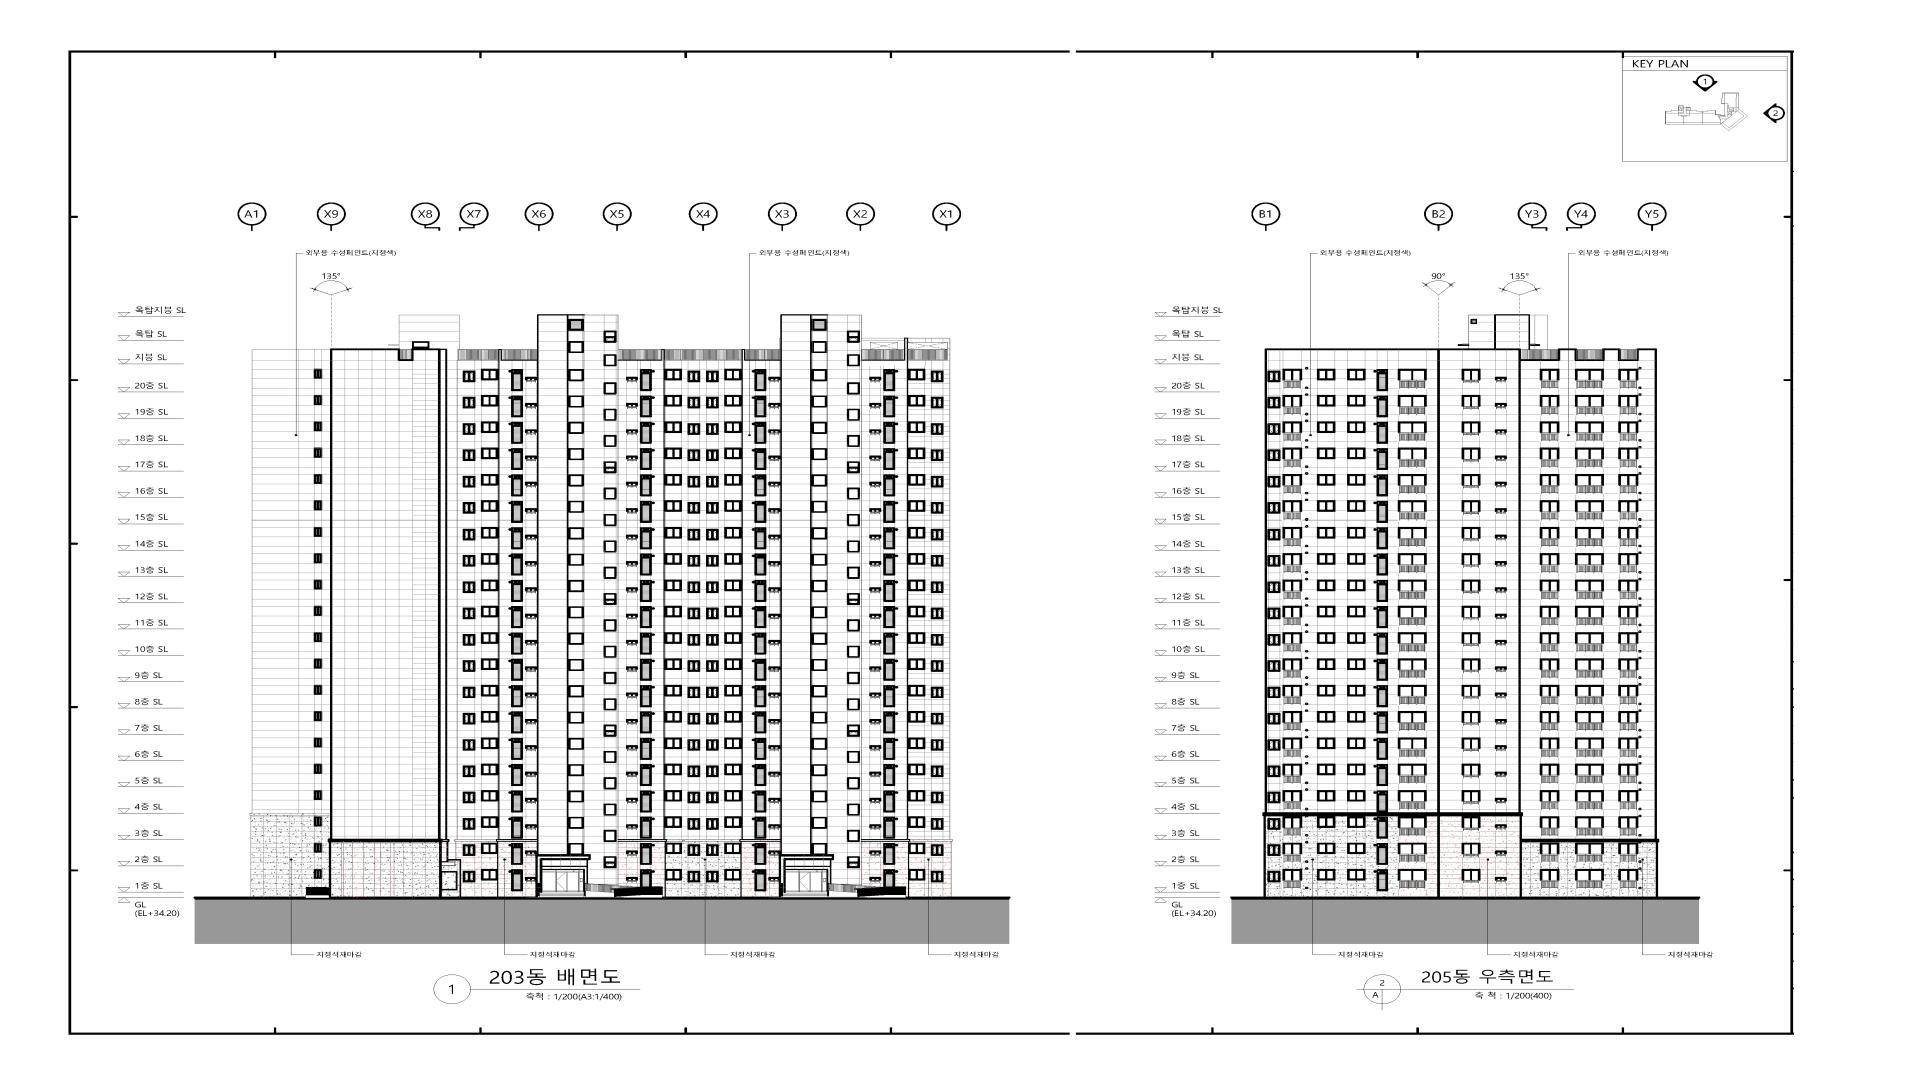door: (555, 870, 567, 892), (567, 870, 579, 892), (810, 870, 822, 892), (799, 870, 810, 892)
wall: (195, 314, 1009, 900), (1231, 314, 1699, 900)
window: (862, 340, 904, 360), (908, 342, 948, 360), (1398, 527, 1427, 548), (1398, 737, 1427, 758), (1398, 763, 1427, 784), (1575, 421, 1604, 442), (1575, 447, 1604, 468), (1575, 658, 1604, 679), (1398, 579, 1427, 600), (1398, 632, 1427, 653), (1398, 658, 1427, 679), (1575, 553, 1604, 574), (1397, 422, 1427, 442), (1574, 395, 1604, 415), (1574, 474, 1604, 494), (1398, 395, 1427, 415), (1398, 474, 1427, 494), (1398, 500, 1427, 520), (1398, 553, 1427, 573), (1398, 711, 1427, 731), (1398, 790, 1427, 810), (1398, 816, 1427, 836), (1397, 843, 1426, 863), (1398, 869, 1427, 889), (1575, 500, 1604, 520), (1575, 606, 1604, 626), (1575, 632, 1604, 652), (1575, 685, 1604, 705), (1575, 711, 1604, 731), (1575, 738, 1604, 758), (1575, 764, 1604, 784), (1575, 790, 1604, 810), (1575, 816, 1604, 836), (1575, 843, 1604, 863), (1575, 869, 1604, 889), (1398, 369, 1427, 389), (1575, 369, 1604, 389), (1398, 448, 1427, 468), (1398, 606, 1427, 626), (1398, 685, 1427, 705), (1575, 527, 1604, 547), (1575, 580, 1604, 600), (1282, 421, 1302, 442), (1282, 447, 1302, 468), (1282, 632, 1302, 653), (1618, 737, 1638, 758), (1618, 764, 1639, 784), (1618, 869, 1639, 889), (1618, 790, 1639, 810), (1618, 816, 1639, 836), (1539, 816, 1560, 836), (1282, 527, 1302, 547), (1282, 580, 1302, 600), (1282, 606, 1302, 626), (1282, 685, 1302, 705), (1282, 711, 1302, 731), (1282, 816, 1302, 836), (1282, 843, 1302, 863), (1618, 395, 1638, 415), (1539, 448, 1559, 468), (1540, 474, 1560, 494), (1618, 474, 1638, 494), (1540, 659, 1560, 679), (1618, 685, 1638, 705), (1540, 737, 1560, 757), (1618, 711, 1638, 731), (1282, 369, 1302, 389), (1618, 369, 1638, 389), (1282, 474, 1302, 494), (1282, 553, 1302, 573), (1282, 790, 1302, 810), (1618, 448, 1638, 468), (1618, 501, 1638, 521), (1618, 527, 1638, 547), (1618, 553, 1638, 573), (1618, 580, 1638, 600), (1618, 632, 1638, 652), (1618, 658, 1638, 678), (1540, 843, 1560, 863), (1540, 869, 1560, 889), (1618, 843, 1638, 863), (1283, 500, 1302, 521), (1283, 658, 1302, 679), (1540, 421, 1559, 442), (1540, 579, 1559, 600), (1540, 605, 1559, 626), (1619, 421, 1638, 442), (1283, 395, 1302, 415), (1283, 738, 1302, 758), (1283, 764, 1302, 784), (1283, 869, 1302, 889), (1540, 395, 1559, 415), (1540, 500, 1559, 520), (1540, 553, 1559, 573), (1619, 606, 1638, 626), (1540, 632, 1559, 652), (1540, 711, 1559, 731), (1540, 764, 1559, 784), (1540, 369, 1559, 389), (1540, 527, 1559, 547), (1540, 685, 1559, 705), (1540, 790, 1559, 810), (542, 870, 556, 892), (785, 870, 799, 892), (1461, 500, 1481, 515), (1461, 553, 1481, 568), (1462, 421, 1481, 436), (1461, 447, 1480, 462), (1462, 474, 1481, 489), (1462, 632, 1481, 647), (1462, 658, 1481, 673), (1462, 395, 1481, 410), (1462, 605, 1481, 620), (1462, 685, 1481, 700), (1461, 815, 1480, 830), (1462, 869, 1481, 884), (1461, 711, 1481, 725), (1461, 369, 1481, 383), (640, 474, 652, 497), (883, 632, 895, 655), (883, 658, 895, 681), (883, 790, 895, 813), (511, 395, 523, 418), (511, 632, 523, 655), (511, 816, 523, 839), (755, 816, 767, 839), (754, 790, 766, 813), (640, 790, 652, 813), (640, 685, 652, 708), (640, 658, 652, 681), (754, 553, 766, 576), (640, 553, 652, 576), (755, 527, 767, 550), (1461, 527, 1480, 541), (1462, 580, 1481, 594), (1461, 738, 1480, 752), (1461, 764, 1480, 778), (1461, 790, 1480, 804), (1461, 843, 1480, 857), (511, 369, 523, 391), (755, 501, 767, 523), (640, 501, 652, 523), (755, 474, 767, 496), (754, 448, 766, 470), (640, 448, 652, 470), (640, 422, 652, 444), (754, 422, 766, 444), (640, 396, 652, 418), (883, 422, 895, 444), (883, 448, 895, 470), (883, 474, 895, 496), (883, 501, 895, 523), (883, 527, 895, 549), (883, 553, 895, 575), (883, 580, 895, 602), (883, 606, 895, 628), (883, 685, 895, 707), (883, 711, 895, 733), (883, 738, 895, 760), (883, 764, 895, 786), (883, 817, 895, 839), (883, 843, 895, 865), (511, 422, 523, 444), (511, 448, 523, 470), (511, 474, 523, 496), (511, 501, 523, 523), (511, 527, 523, 549), (511, 553, 523, 575), (511, 580, 523, 602), (511, 606, 523, 628), (511, 659, 523, 681), (511, 685, 523, 707), (511, 711, 523, 733), (511, 738, 523, 760), (511, 764, 523, 786), (511, 791, 523, 813), (511, 843, 523, 865), (511, 869, 523, 891), (755, 869, 767, 891), (755, 843, 767, 865), (640, 843, 652, 865), (640, 817, 652, 839), (640, 764, 652, 786), (755, 764, 767, 786), (754, 738, 766, 760), (640, 738, 652, 760), (640, 711, 652, 733), (754, 711, 766, 733), (754, 685, 766, 707), (754, 659, 766, 681), (640, 632, 652, 654), (640, 606, 652, 628), (755, 633, 767, 655), (754, 606, 766, 628), (755, 580, 767, 602), (640, 580, 652, 602), (640, 527, 652, 549), (640, 369, 652, 391), (883, 369, 895, 391), (1376, 843, 1388, 865), (1376, 369, 1388, 391), (1377, 396, 1389, 418), (1376, 422, 1388, 444), (1376, 448, 1388, 470), (1376, 475, 1388, 497), (1376, 501, 1388, 523), (1376, 554, 1388, 576), (1376, 580, 1388, 602), (1376, 606, 1388, 628), (1376, 633, 1388, 655), (1376, 659, 1388, 681), (1376, 711, 1388, 733), (754, 396, 766, 417), (883, 396, 895, 417), (755, 369, 766, 391), (1377, 764, 1388, 786), (1377, 791, 1388, 813), (1377, 817, 1388, 839), (1377, 869, 1388, 891), (1377, 527, 1388, 549), (1377, 685, 1388, 707), (1377, 738, 1388, 760), (481, 421, 500, 433), (480, 500, 499, 512), (481, 553, 500, 565), (663, 711, 682, 723), (663, 816, 682, 828), (907, 816, 926, 828), (907, 711, 926, 723), (907, 605, 926, 617), (907, 553, 926, 565), (907, 527, 926, 539), (907, 474, 926, 486), (724, 395, 743, 407), (724, 421, 743, 433), (724, 447, 743, 459), (724, 474, 743, 486), (724, 500, 743, 512), (724, 553, 743, 565), (724, 632, 743, 644), (724, 711, 743, 723), (724, 737, 743, 749), (724, 764, 743, 776), (724, 790, 743, 802), (663, 500, 682, 512), (663, 553, 682, 565), (663, 632, 682, 644), (663, 658, 682, 670), (1317, 395, 1336, 407), (1347, 421, 1366, 433), (1317, 474, 1336, 486), (1317, 500, 1336, 512), (1317, 527, 1336, 539), (1347, 527, 1366, 539), (1317, 553, 1336, 565), (1317, 580, 1336, 592), (1317, 606, 1336, 618), (1347, 737, 1366, 749), (1317, 737, 1336, 749), (1317, 816, 1336, 828), (1347, 816, 1366, 828), (1347, 395, 1366, 407), (1347, 474, 1366, 486), (1347, 500, 1366, 512), (1317, 632, 1336, 644), (1347, 632, 1366, 644), (1347, 658, 1366, 670), (1347, 685, 1366, 697), (1347, 711, 1366, 723), (1347, 764, 1366, 776), (1347, 790, 1366, 802), (481, 395, 499, 407), (481, 447, 499, 459), (481, 474, 499, 486), (481, 527, 499, 539), (481, 579, 499, 591), (481, 632, 499, 644), (481, 658, 499, 670), (481, 711, 499, 723), (481, 737, 499, 749), (481, 763, 499, 775), (481, 816, 499, 828), (883, 869, 895, 887), (567, 475, 585, 487), (566, 606, 584, 618), (566, 633, 584, 645), (566, 712, 584, 724), (566, 817, 584, 829), (810, 711, 828, 723), (810, 685, 828, 697), (810, 659, 828, 671), (810, 606, 828, 618), (810, 580, 828, 592), (810, 527, 828, 539), (664, 737, 682, 749), (664, 790, 682, 802), (907, 790, 925, 802), (907, 737, 925, 749), (907, 658, 925, 670), (907, 632, 925, 644), (907, 500, 925, 512), (907, 421, 925, 433), (907, 395, 925, 407), (640, 869, 652, 887), (664, 369, 682, 381), (725, 579, 743, 591), (724, 816, 742, 828), (664, 395, 682, 407), (664, 421, 682, 433), (664, 447, 682, 459), (664, 474, 682, 486), (664, 527, 682, 539), (664, 579, 682, 591), (810, 501, 828, 513), (810, 422, 828, 434), (810, 395, 828, 407), (810, 369, 828, 381), (1347, 553, 1365, 565), (1317, 369, 1335, 381), (1317, 658, 1335, 670), (1317, 711, 1335, 723), (1317, 764, 1335, 776), (1317, 790, 1335, 802), (663, 685, 682, 696), (663, 764, 682, 775), (907, 448, 926, 459), (724, 369, 743, 380), (724, 606, 743, 617), (663, 606, 682, 617), (1317, 422, 1336, 433), (1347, 448, 1366, 459), (1347, 580, 1366, 591), (1347, 606, 1366, 617), (1347, 369, 1366, 380), (1317, 448, 1336, 459), (1317, 843, 1336, 854), (1347, 843, 1366, 854), (1347, 869, 1366, 880), (567, 319, 584, 331), (567, 341, 584, 353), (567, 369, 584, 381), (567, 396, 584, 408), (567, 422, 584, 434), (567, 448, 584, 460), (567, 501, 584, 513), (567, 527, 584, 539), (567, 554, 584, 566), (567, 580, 584, 592), (567, 659, 584, 671), (567, 685, 584, 697), (567, 738, 584, 750), (567, 764, 584, 776), (567, 791, 584, 803), (567, 843, 584, 855), (810, 843, 827, 855), (810, 817, 827, 829), (810, 790, 827, 802), (810, 764, 827, 776), (810, 738, 827, 750), (810, 553, 827, 565), (810, 319, 827, 331), (810, 341, 827, 353), (810, 448, 827, 460), (481, 369, 499, 380), (481, 606, 499, 617), (481, 685, 499, 696), (481, 790, 499, 801), (907, 764, 925, 775), (907, 685, 925, 696), (907, 580, 925, 591), (907, 369, 925, 380), (725, 527, 743, 538), (724, 659, 742, 670), (725, 685, 743, 696), (724, 843, 742, 854), (724, 869, 742, 880), (664, 869, 682, 880), (908, 869, 926, 880), (810, 475, 828, 486), (1317, 685, 1335, 696), (1317, 869, 1335, 880), (810, 633, 827, 644), (481, 843, 498, 854), (481, 869, 498, 880), (665, 843, 682, 854), (908, 843, 925, 854), (603, 330, 617, 343), (604, 461, 617, 474), (847, 724, 860, 737), (603, 382, 617, 394), (603, 593, 617, 605), (603, 725, 617, 737), (603, 856, 617, 868), (603, 830, 617, 842), (603, 777, 617, 789), (603, 751, 617, 763), (603, 698, 617, 710), (603, 567, 617, 579), (603, 514, 617, 526), (603, 435, 617, 447), (687, 713, 700, 725), (706, 713, 719, 725), (687, 739, 700, 751), (706, 739, 719, 751), (687, 765, 700, 777), (706, 765, 719, 777), (687, 791, 700, 803), (687, 818, 700, 830), (706, 818, 719, 830), (687, 844, 700, 856), (706, 844, 719, 856), (463, 660, 476, 672), (463, 502, 476, 514), (463, 423, 476, 435), (931, 634, 944, 646), (931, 739, 944, 751), (931, 765, 944, 777), (931, 818, 944, 830), (931, 844, 944, 856), (706, 423, 719, 435), (687, 449, 700, 461), (687, 476, 700, 488), (706, 476, 719, 488), (687, 502, 700, 514), (706, 502, 719, 514), (706, 529, 719, 541), (687, 555, 700, 567), (706, 555, 719, 567), (687, 581, 700, 593), (706, 581, 719, 593), (706, 634, 719, 646), (687, 660, 700, 672), (706, 660, 719, 672), (604, 354, 617, 366), (847, 331, 860, 343), (847, 354, 860, 366), (847, 856, 860, 868), (847, 593, 860, 605), (847, 461, 860, 473), (931, 423, 944, 435), (930, 449, 943, 461), (931, 502, 944, 514), (931, 529, 944, 541), (931, 581, 944, 593), (847, 382, 860, 394), (847, 409, 860, 421), (847, 435, 860, 447), (847, 488, 860, 500), (847, 514, 860, 526), (847, 541, 860, 553), (847, 567, 860, 579), (847, 620, 860, 632), (847, 646, 860, 658), (847, 672, 860, 684), (847, 698, 860, 710), (847, 751, 860, 763), (847, 777, 860, 789), (847, 804, 860, 816), (847, 830, 860, 842), (604, 804, 617, 816), (603, 672, 616, 684), (604, 646, 617, 658), (604, 619, 617, 631), (604, 540, 617, 552), (604, 409, 617, 421), (1267, 765, 1280, 777), (1267, 791, 1280, 803), (1267, 818, 1280, 830), (1267, 844, 1280, 856), (1267, 871, 1280, 883), (1267, 397, 1280, 409), (1267, 423, 1280, 435), (1267, 449, 1280, 461), (1267, 502, 1280, 514), (1268, 581, 1281, 593), (1268, 607, 1281, 619), (1267, 634, 1280, 646), (1267, 660, 1280, 672), (1267, 713, 1280, 725), (1267, 739, 1280, 751), (603, 488, 617, 499), (463, 844, 475, 856), (463, 818, 475, 830), (463, 765, 475, 777), (463, 739, 475, 751), (463, 634, 475, 646), (463, 555, 475, 567), (463, 529, 475, 541), (463, 449, 475, 461), (931, 660, 943, 672), (931, 713, 943, 725), (688, 397, 700, 409), (688, 423, 700, 435), (706, 607, 718, 619), (688, 634, 700, 646), (931, 555, 943, 567), (706, 687, 719, 698), (706, 792, 719, 803), (687, 871, 700, 882), (706, 871, 719, 882), (463, 792, 476, 803), (462, 476, 475, 487), (931, 608, 944, 619), (931, 687, 944, 698), (931, 792, 944, 803), (931, 871, 944, 882), (706, 397, 719, 408), (706, 450, 719, 461), (687, 529, 700, 540), (687, 687, 700, 698), (687, 371, 700, 382), (706, 371, 719, 382), (931, 397, 944, 408), (1267, 371, 1280, 382), (1268, 476, 1281, 487), (1267, 529, 1280, 540), (1267, 555, 1280, 566), (1267, 687, 1280, 698), (412, 341, 429, 349), (463, 371, 475, 382), (463, 871, 475, 882), (463, 713, 475, 724), (463, 687, 475, 698), (463, 608, 475, 619), (463, 582, 475, 593), (463, 397, 475, 408), (688, 608, 700, 619), (931, 371, 943, 382), (931, 476, 943, 487), (579, 870, 584, 892), (822, 870, 827, 892), (768, 587, 781, 594), (768, 613, 781, 620), (869, 771, 882, 778), (869, 455, 881, 462), (626, 534, 638, 541), (525, 534, 537, 541), (525, 613, 537, 620), (626, 666, 638, 673), (314, 369, 322, 379), (314, 395, 322, 405), (314, 421, 322, 431), (314, 448, 322, 458), (314, 474, 322, 484), (314, 500, 322, 510), (314, 527, 322, 537), (314, 553, 322, 563), (314, 580, 322, 590), (314, 632, 322, 642), (314, 659, 322, 669), (314, 685, 322, 695), (314, 711, 322, 721), (314, 737, 322, 747), (314, 764, 322, 774), (314, 790, 322, 800), (314, 816, 322, 826), (314, 843, 322, 853), (314, 869, 322, 879), (768, 850, 781, 856), (768, 429, 781, 435), (768, 482, 781, 488), (768, 508, 781, 514), (768, 535, 781, 541), (768, 561, 781, 567), (869, 614, 882, 620), (768, 798, 781, 804), (869, 798, 882, 804), (869, 850, 882, 856), (525, 798, 538, 804), (768, 403, 781, 409), (1494, 403, 1507, 409), (525, 377, 537, 383), (314, 606, 322, 615), (525, 403, 537, 409), (626, 403, 638, 409), (525, 430, 537, 436), (626, 430, 638, 436), (525, 456, 537, 462), (626, 455, 638, 461), (768, 877, 780, 883), (869, 429, 881, 435), (768, 456, 780, 462), (869, 482, 881, 488), (869, 508, 881, 514), (869, 535, 881, 541), (869, 561, 881, 567), (869, 587, 881, 593), (869, 640, 881, 646), (768, 640, 780, 646), (768, 666, 780, 672), (869, 666, 881, 672), (869, 693, 881, 699), (869, 719, 881, 725), (768, 719, 780, 725), (769, 693, 781, 699), (768, 745, 780, 751), (768, 771, 780, 777), (869, 745, 881, 751), (768, 824, 780, 830), (869, 824, 881, 830), (869, 877, 881, 883), (626, 377, 638, 383), (768, 377, 780, 383), (869, 377, 881, 383), (525, 482, 537, 488), (626, 482, 638, 488), (525, 508, 537, 514), (626, 508, 638, 514), (525, 561, 537, 567), (626, 561, 638, 567), (525, 587, 537, 593), (626, 587, 638, 593), (626, 614, 638, 620), (525, 640, 537, 646), (626, 640, 638, 646), (525, 666, 537, 672), (525, 693, 537, 699), (626, 693, 638, 699), (525, 719, 537, 725), (626, 719, 638, 725), (525, 745, 537, 751), (525, 772, 537, 778), (626, 771, 638, 777), (626, 745, 638, 751), (626, 798, 638, 804), (525, 824, 537, 830), (626, 824, 638, 830), (525, 850, 537, 856), (525, 877, 537, 883), (626, 877, 638, 883), (626, 850, 638, 856), (869, 403, 881, 409), (1495, 429, 1507, 435), (1495, 456, 1507, 462), (1495, 482, 1507, 488), (1495, 508, 1507, 514), (1495, 534, 1507, 540), (1495, 561, 1507, 567), (1495, 587, 1507, 593), (1495, 640, 1507, 646), (1495, 666, 1507, 672), (1495, 377, 1507, 383), (1495, 614, 1507, 620), (1495, 692, 1507, 698), (1495, 719, 1507, 725), (1495, 745, 1507, 751), (1495, 798, 1507, 804), (1495, 824, 1507, 830), (1495, 850, 1507, 856), (1495, 877, 1507, 883), (1495, 772, 1507, 777), (1470, 319, 1477, 324)
